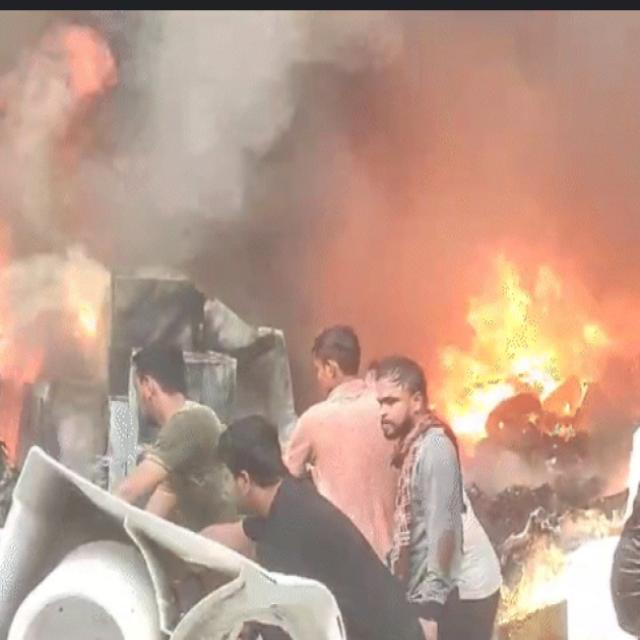fire: (430, 254, 614, 462), (0, 230, 50, 466), (58, 23, 123, 109)
